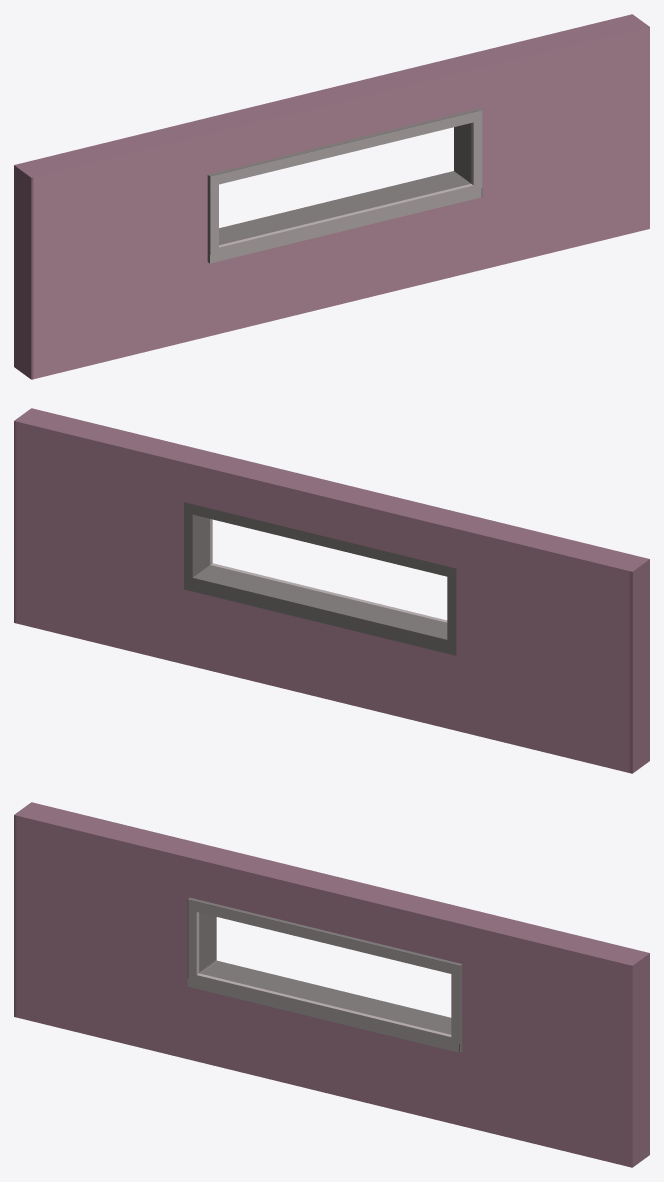
The model's file is ParedCocina.fbx.
3 views of the same model, one above another, from view 1: azimuth 30°, elevation 25°; view 2: azimuth 150°, elevation 25°; view 3: azimuth 330°, elevation 25° (orthographic).
Visible parts, largest first — view 1: MarcoCocina; view 2: MarcoCocina; view 3: MarcoCocina.
Boxes of the visible parts, bbox=[...] form: MarcoCocina: bbox=[14, 14, 649, 379]; MarcoCocina: bbox=[14, 408, 649, 773]; MarcoCocina: bbox=[14, 802, 649, 1167].
Bounding box in the file's own units: 888 × 277 × 49.51.
